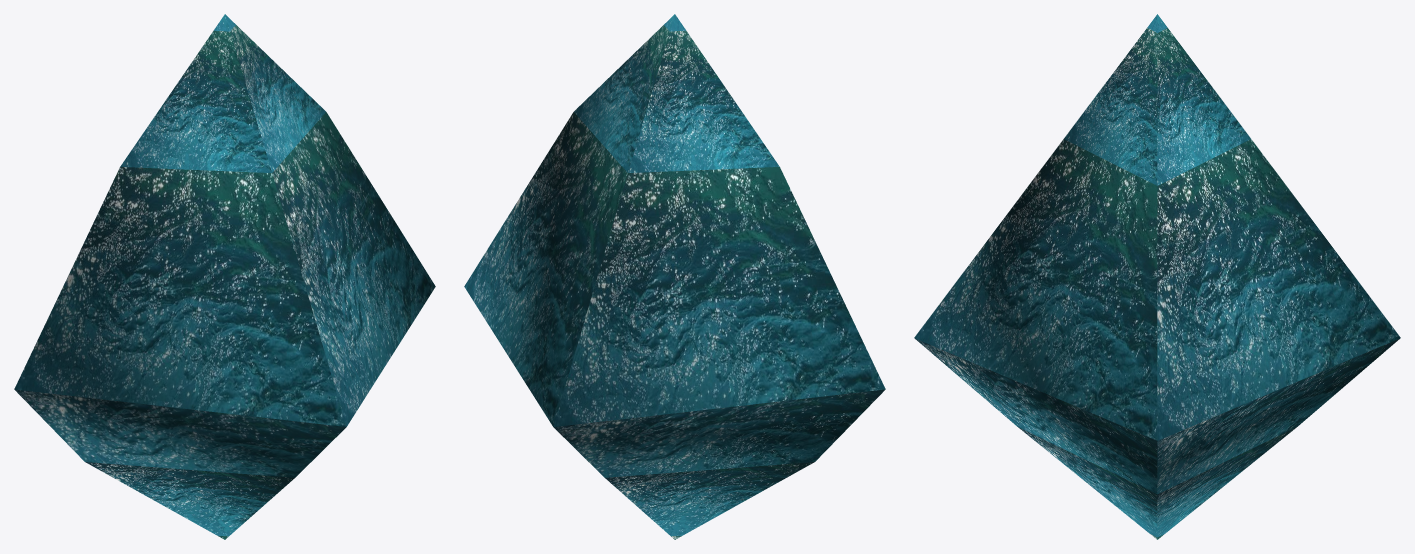
Rendered from seed_blue.fbx.
The picture shows the model from 3 angles, left to right: view 1: azimuth 30°, elevation 25°; view 2: azimuth 150°, elevation 25°; view 3: azimuth 270°, elevation 25°; orthographic projection.
Visible parts, largest first — view 1: GeoSphere003; view 2: GeoSphere003; view 3: GeoSphere003.
Boxes of the visible parts, x1,y1,x2,y2 form: GeoSphere003: (14, 14, 435, 539); GeoSphere003: (464, 14, 885, 539); GeoSphere003: (914, 14, 1400, 539).
Size of the model in its own units: 49.24 by 58.7 by 49.24.
1 material, 1 textured.
